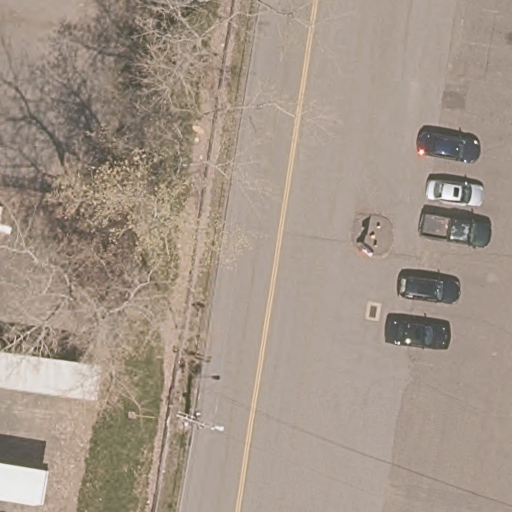DT: (176, 409, 211, 430)
